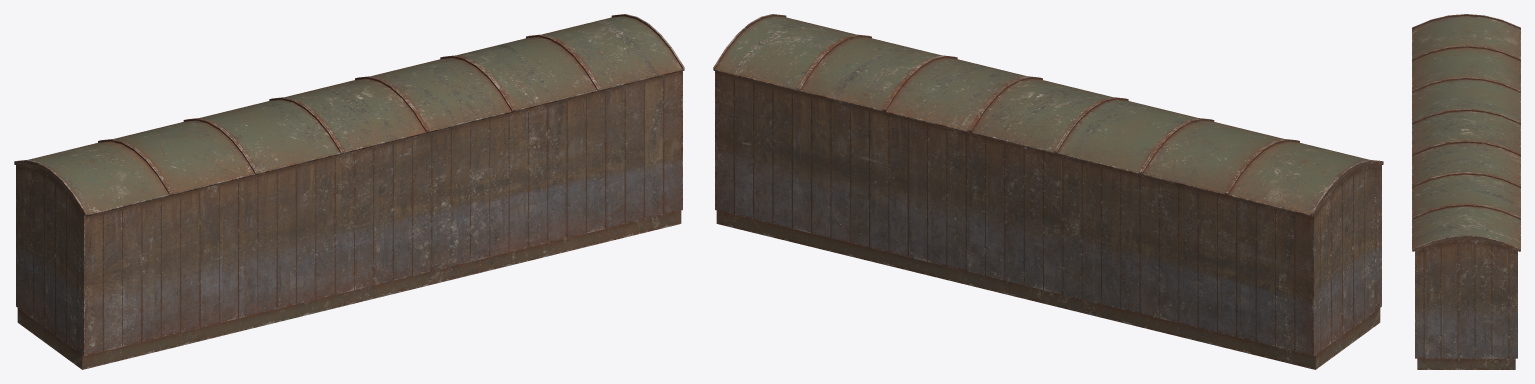
The model's file is Conveyor01.fbx.
3 renders of one model, left to right at view 1: azimuth 30°, elevation 25°; view 2: azimuth 150°, elevation 25°; view 3: azimuth 270°, elevation 25°, orthographic. The views are drawn at different scales.
Visible parts, largest first — view 1: Conveyor01; view 2: Conveyor01; view 3: Conveyor01.
Boxes of the visible parts, x1=… form: Conveyor01: x1=14, y1=14, x2=684, y2=369; Conveyor01: x1=713, y1=14, x2=1383, y2=369; Conveyor01: x1=1412, y1=14, x2=1520, y2=369.
Size of the model in its own units: 900 by 253 by 186.
